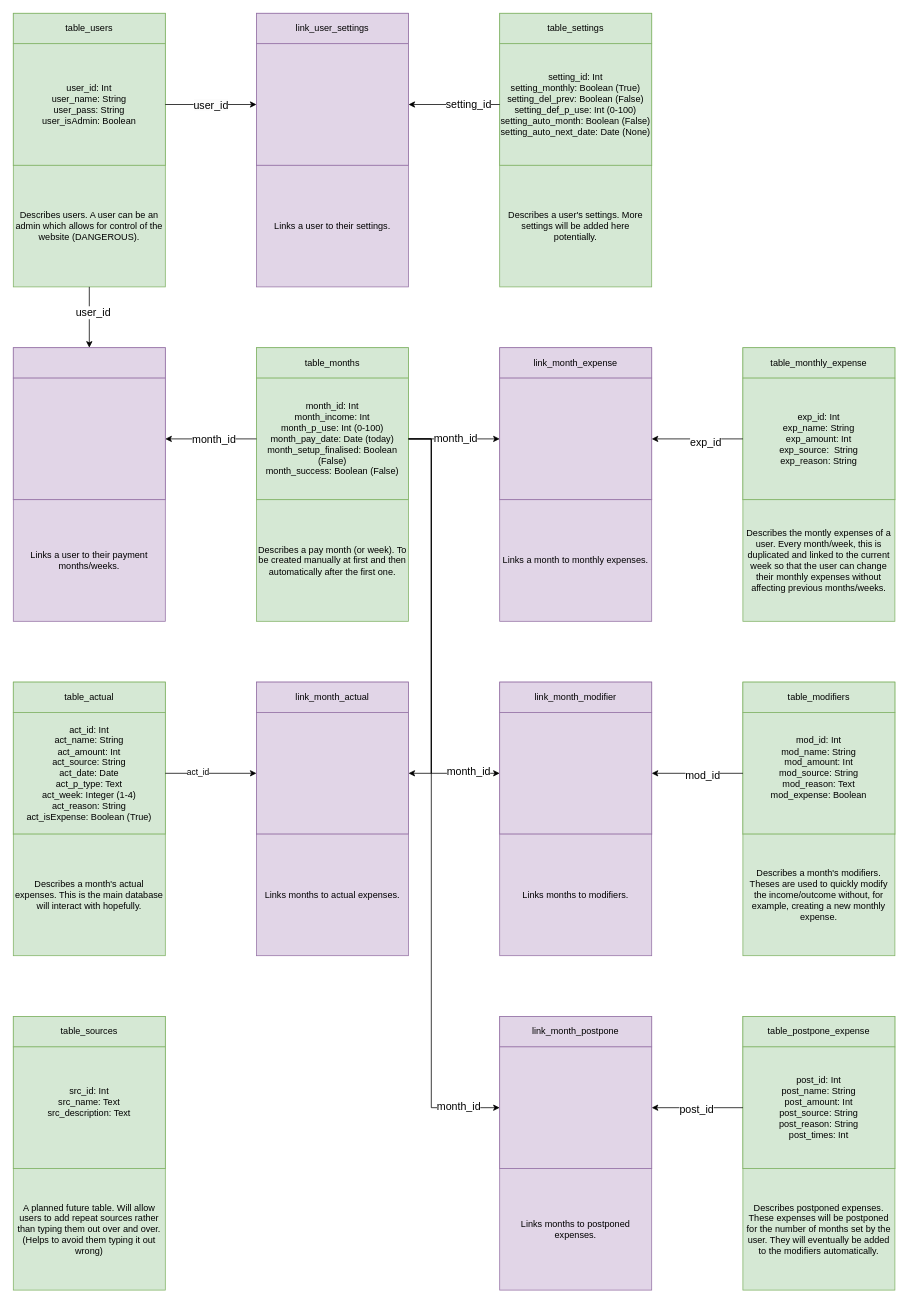
Image size: 908x1303. Some labels were removed from this diagram. The shapes that lost their labels are listed below. From the top down, each one's box as (x1, y1, x2, y2) in pixels, then its label:
(256, 43, 408, 165): user_id: Int setting_id: Int
(13, 347, 165, 378): link_user_month
(13, 377, 165, 500): user_id: Int month_id: Int
(499, 377, 652, 500): month_id: Int exp_id: Int
(256, 712, 408, 834): month_id: Int act_id: Int
(499, 712, 652, 834): month_id: Int mod_id: Int
(499, 1046, 652, 1168): month_id: Int post_id: Int
